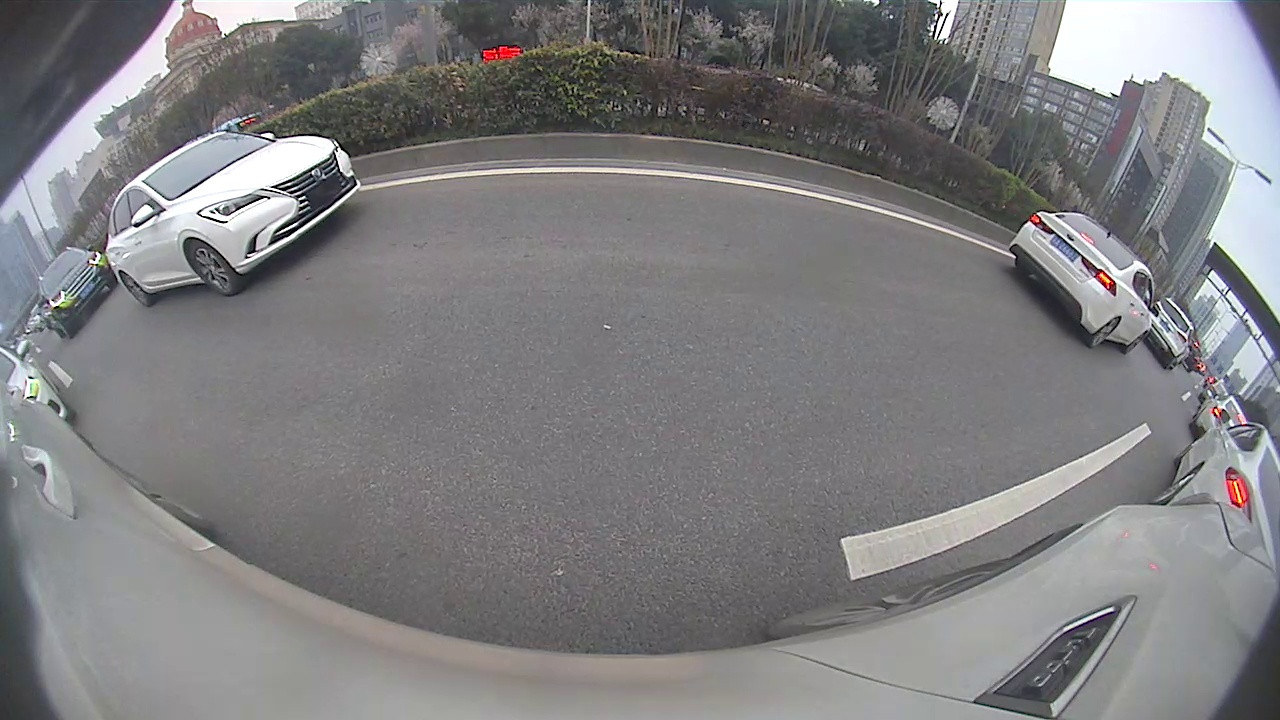car: (103, 129, 360, 307), (1007, 209, 1160, 356), (1148, 407, 1277, 549), (34, 245, 119, 340)
front: (187, 241, 237, 297)
rear: (1089, 316, 1122, 350), (123, 273, 155, 307)
